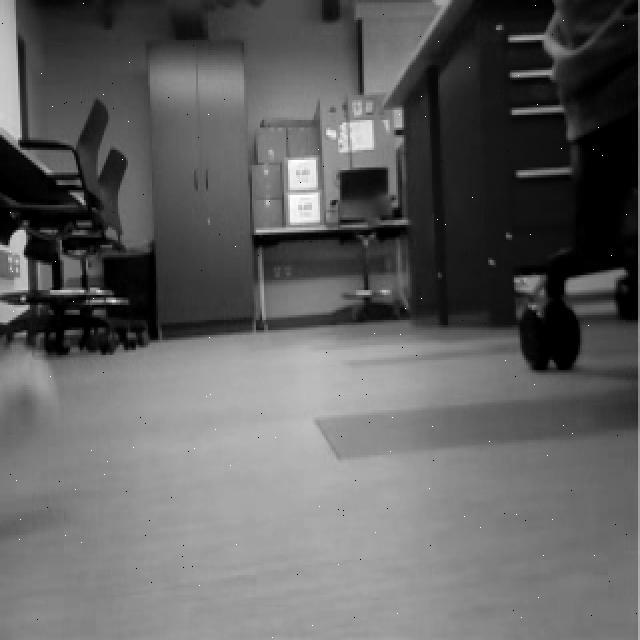ping-pong-ball: (0, 340, 57, 460)
